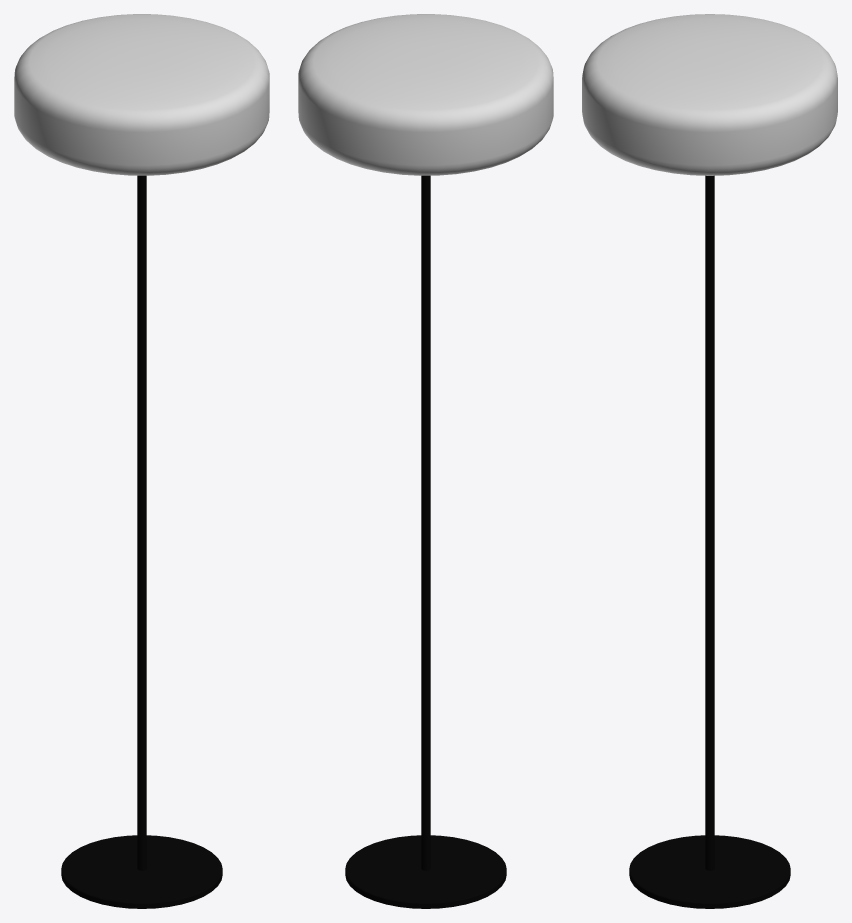
File: lampara4.0.glb
The picture shows the model from 3 angles, left to right: view 1: azimuth 30°, elevation 25°; view 2: azimuth 150°, elevation 25°; view 3: azimuth 270°, elevation 25°; orthographic projection.
Parts seen in each view (by area): view 1: Lamp_39; view 2: Lamp_39; view 3: Lamp_39.
Boxes of the visible parts, x1,y1,x2,y2 form: Lamp_39: [14, 14, 269, 908]; Lamp_39: [298, 14, 553, 908]; Lamp_39: [582, 14, 837, 908].
Bounding box in the file's own units: 1.5 × 5.28 × 1.5.
Materials: 2 (1 with a texture image).
